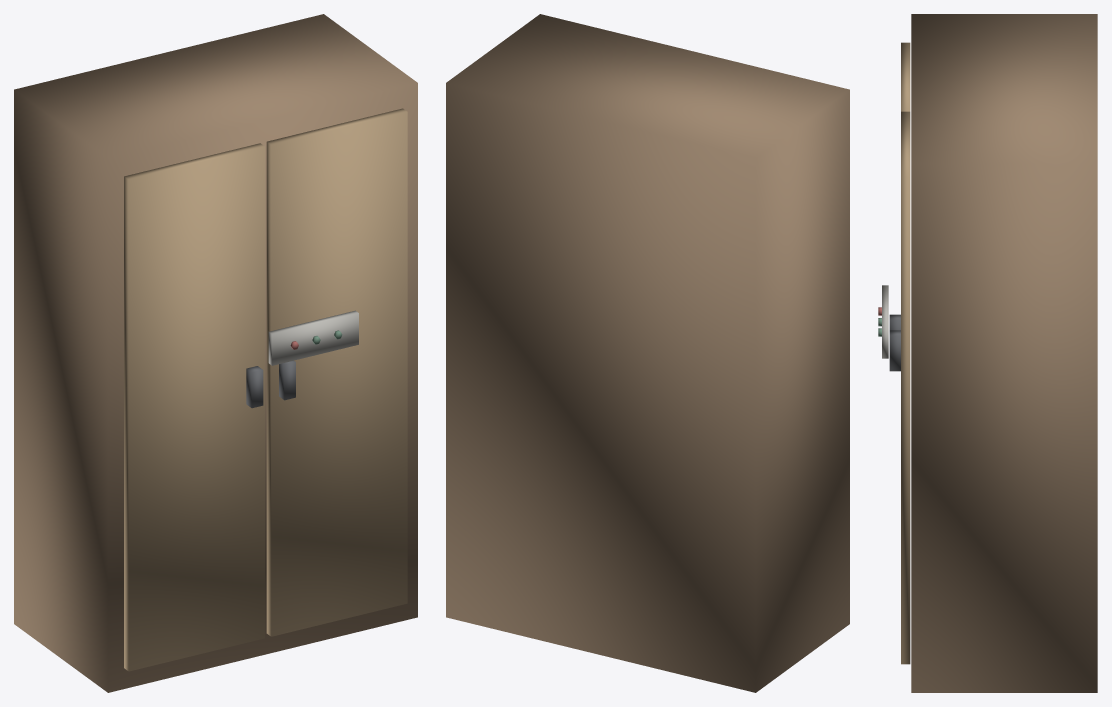
File: map_cabinet__tall.glb
The picture shows the model from 3 angles, left to right: view 1: azimuth 30°, elevation 25°; view 2: azimuth 150°, elevation 25°; view 3: azimuth 270°, elevation 25°; orthographic projection.
Visible parts, largest first — view 1: world; view 2: world; view 3: world.
Boxes of the visible parts, x1,y1,x2,y2 form: world: [14, 14, 417, 692]; world: [446, 14, 849, 692]; world: [878, 14, 1097, 692].
Size of the model in its own units: 0.95 by 1.57 by 0.5885.
